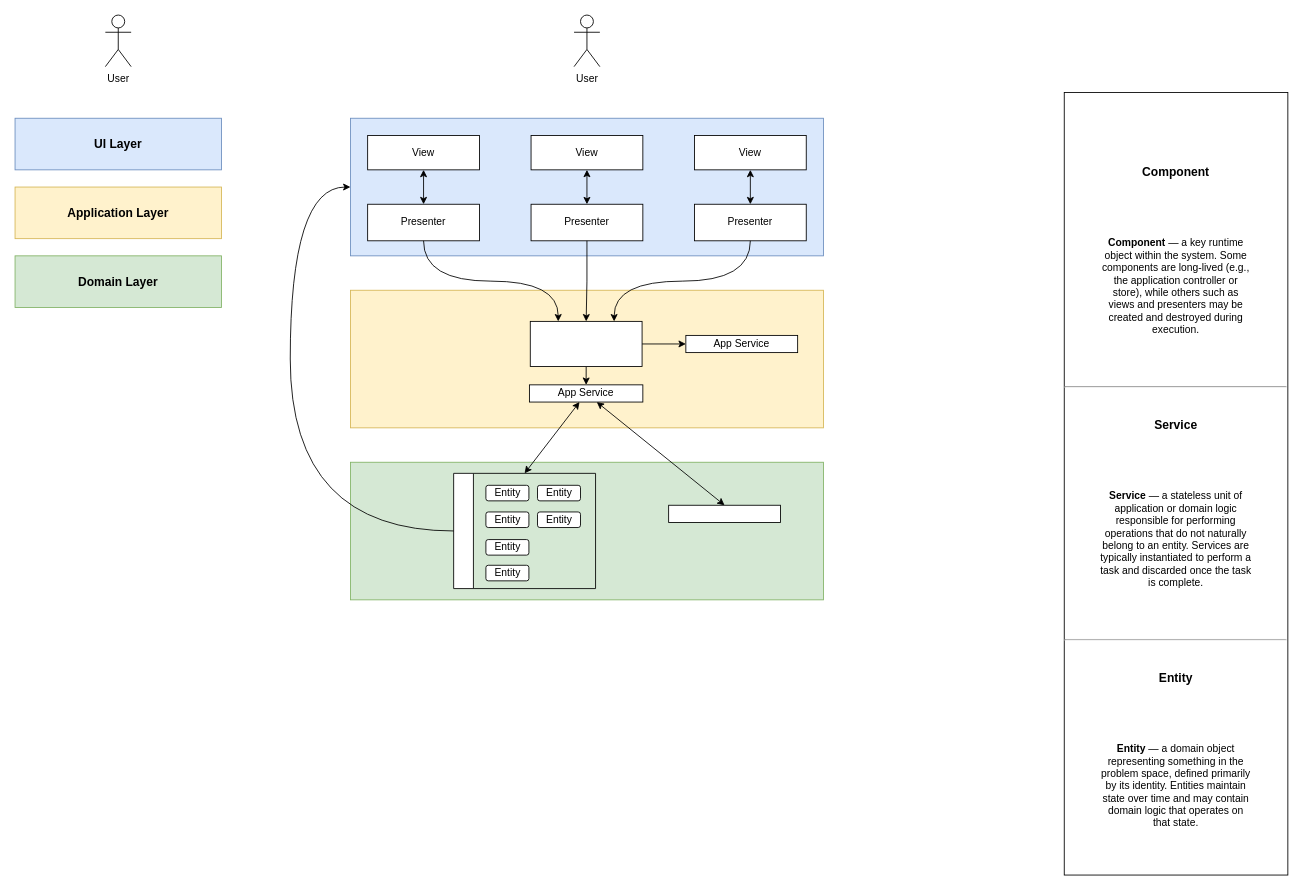
Image size: 1303x890. Some labels were removed from this diagram. The shapes that lost their labels are listed below. From the top down, each one's box as (x1, y1, x2, y2) in pixels, then its label:
(529, 321, 642, 367): App Controller
(453, 472, 596, 589): Store
(668, 504, 780, 522): Data Service
